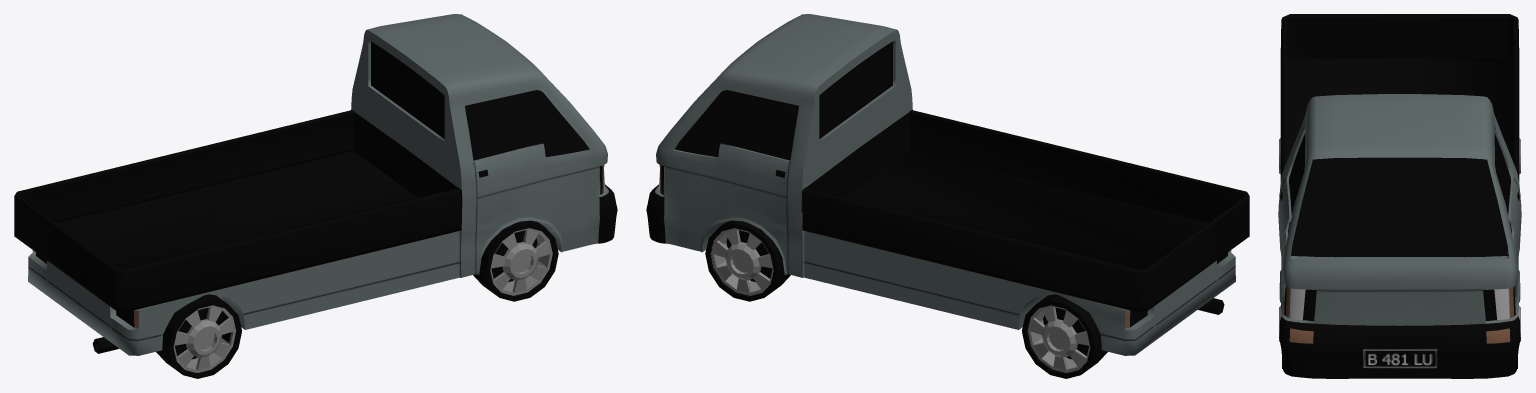
The model's file is P_CAR TRUCK 1.fbx.
3 renders of one model, left to right at view 1: azimuth 30°, elevation 25°; view 2: azimuth 150°, elevation 25°; view 3: azimuth 270°, elevation 25°, orthographic. The views are drawn at different scales.
Parts seen in each view (by area): view 1: Car_Truck_01; view 2: Car_Truck_01; view 3: Car_Truck_01.
Part boxes in pixels (left/top/right/bottom): Car_Truck_01: left=14, top=14, right=617, bottom=378; Car_Truck_01: left=646, top=14, right=1249, bottom=378; Car_Truck_01: left=1278, top=14, right=1521, bottom=378.
Size of the model in its own units: 566 by 235 by 217.
